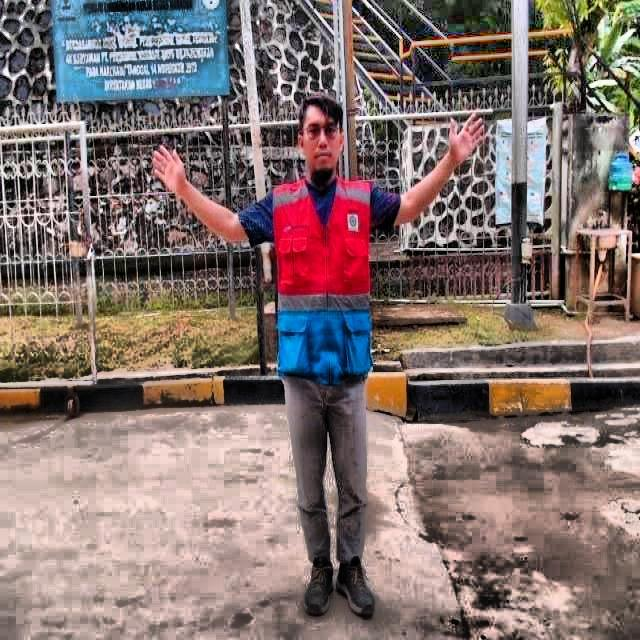safety_jacket: (271, 175, 376, 381)
